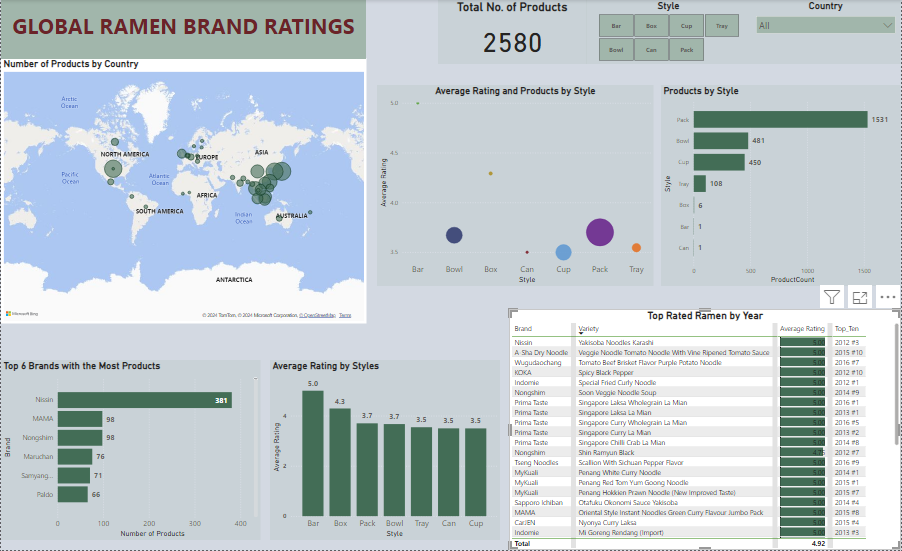

This screenshot's page, from the dashboard's own definition file:
{"tool":"powerbi","page":{"name":"Page 1","canvas":[1800,1100],"ordinal":0},"visuals":[{"type":"barChart","title":"Products by Style","fields":{"Category":["Ramenreviews.Style"],"Y":["Ramenreviews.ProductCount"]},"box":[1320.9,169.8,479.1,402.3],"z":0},{"type":"map","title":"Number of Products by Country","fields":{"Category":["Ramenreviews.Country"],"Size":["Ramenreviews.ProductCount"]},"box":[0,116.7,730.6,530.6],"z":1000},{"type":"columnChart","title":"Average Rating by Styles","fields":{"Category":["Ramenreviews.Style"],"Y":["Avg(Ramenreviews.Stars)"]},"box":[537.2,720.9,460.5,360.5],"z":2000},{"type":"tableEx","title":"Top Rated Ramen by Year","fields":{"Values":["Ramenreviews.Brand","Ramenreviews.Variety","Avg(Ramenreviews.Stars)","Ramenreviews.Top_Ten"]},"box":[1015,617.5,785,482.5],"z":3000},{"type":"barChart","title":"Top 6 Brands with the Most Products","fields":{"Category":["Ramenreviews.Brand"],"Y":["Count(Ramenreviews.Review_No)"]},"box":[0,720.9,518.6,360.5],"z":5000},{"type":"scatterChart","title":"Average Rating and Products by Style","fields":{"Y":["Avg(Ramenreviews.Stars)"],"X":["Ramenreviews.Style"],"Size":["Ramenreviews.ProductCount"]},"box":[751.2,169.8,553.5,402.3],"z":6000},{"type":"slicer","title":"Country","fields":{"Values":["Ramenreviews.Country"]},"box":[1500.4,0,299.2,127.6],"z":7000},{"type":"card","title":"Total No. of Products","fields":{"Values":["Ramenreviews.ProductCount"]},"box":[873.4,0,297,127.6],"z":8000},{"type":"slicer","title":"Style","fields":{"Values":["Ramenreviews.Style"]},"box":[1170.4,0,330,127.6],"z":8001},{"type":"textbox","box":[0,0,730.4,117.7],"z":8002}]}

Visuals, with their boxes in screenshot pixels (x1, y1, x2, y2), scaled from the page's 1800x1100 canvas onto the 902x551 screenshot:
"Products by Style" barChart: crop(662, 85, 901, 287)
"Number of Products by Country" map: crop(0, 58, 366, 324)
"Average Rating by Styles" columnChart: crop(269, 361, 500, 542)
"Top Rated Ramen by Year" tableEx: crop(509, 309, 901, 550)
"Top 6 Brands with the Most Products" barChart: crop(0, 361, 260, 542)
"Average Rating and Products by Style" scatterChart: crop(376, 85, 654, 287)
"Country" slicer: crop(752, 0, 901, 64)
"Total No. of Products" card: crop(438, 0, 587, 64)
"Style" slicer: crop(587, 0, 752, 64)
textbox: crop(0, 0, 366, 59)
